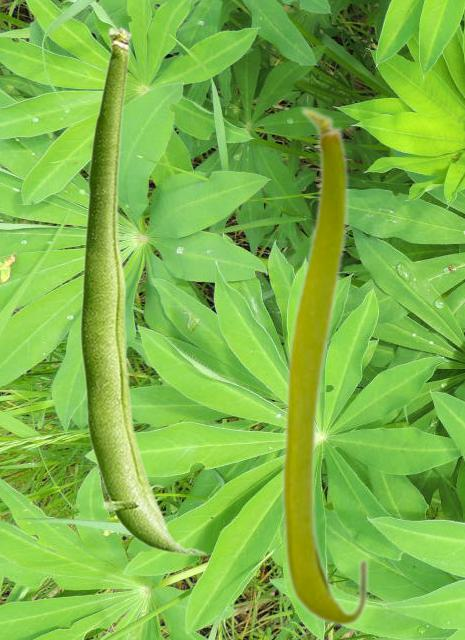french_bean: (79, 26, 207, 555), (279, 105, 369, 627)
